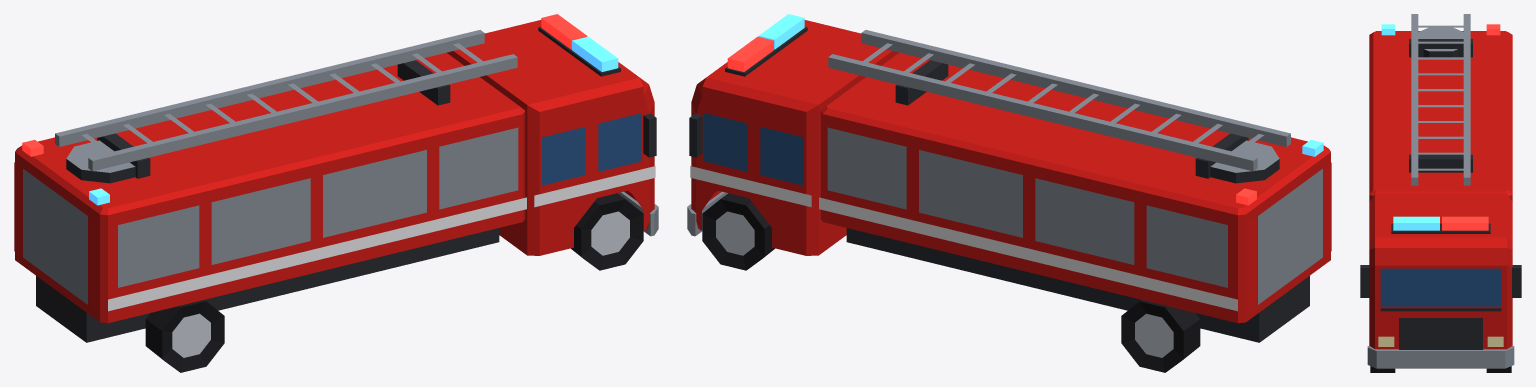
Rendered from fire_truck.glb.
3 renders of one model, left to right at view 1: azimuth 30°, elevation 25°; view 2: azimuth 150°, elevation 25°; view 3: azimuth 270°, elevation 25°, orthographic. The views are drawn at different scales.
Visible parts, largest first — view 1: Body; view 2: Body; view 3: Body.
Part boxes in pixels (left/top/right/bottom): Body: left=14, top=14, right=658, bottom=372; Body: left=687, top=14, right=1331, bottom=372; Body: left=1360, top=14, right=1521, bottom=372.
Size of the model in its own units: 0.8992 by 0.318 by 0.284.
